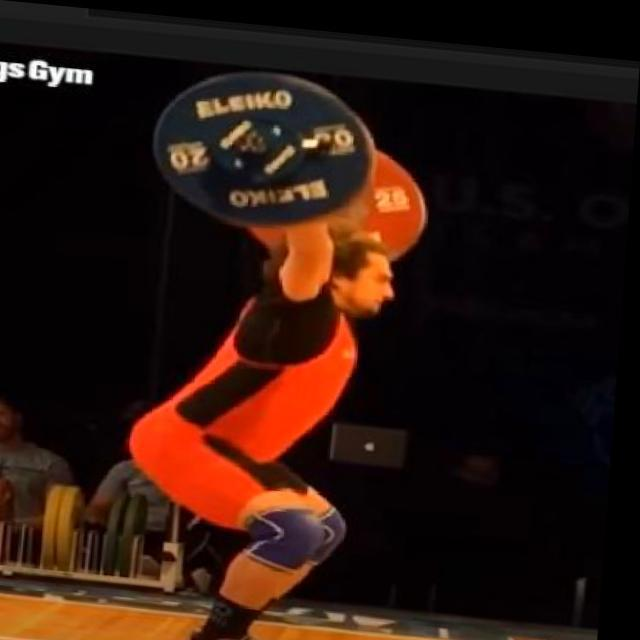barbell: (152, 57, 383, 236)
